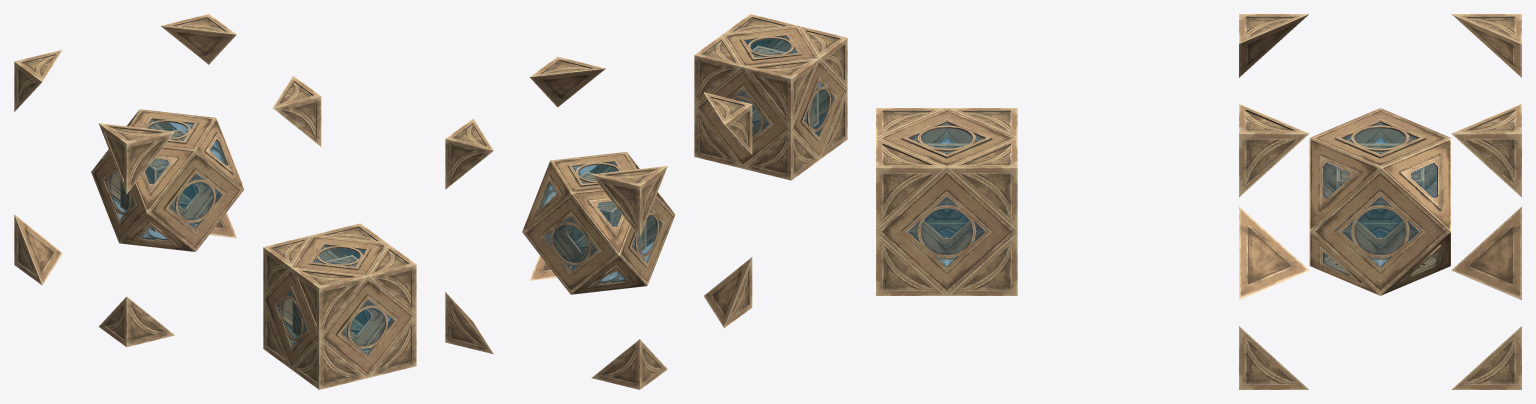
File: jedi_holocron.glb
3 renders of one model, left to right at view 1: azimuth 30°, elevation 25°; view 2: azimuth 150°, elevation 25°; view 3: azimuth 270°, elevation 25°, orthographic. The views are drawn at different scales.
Parts seen in each view (by area): view 1: holocron_opened_Material #25_0, holocron_Material #25_0; view 2: holocron_opened_Material #25_0, holocron_Material #25_0; view 3: holocron_opened_Material #25_0, holocron_Material #25_0.
Part boxes in pixels (x1,y1,x2,y2): holocron_opened_Material #25_0: [14, 14, 321, 347]; holocron_Material #25_0: [263, 223, 416, 389]; holocron_opened_Material #25_0: [445, 56, 752, 389]; holocron_Material #25_0: [694, 14, 847, 180]; holocron_opened_Material #25_0: [1239, 14, 1521, 389]; holocron_Material #25_0: [876, 108, 1017, 295].
Bounding box in the file's own units: 0.2 × 0.2 × 0.4565.
1 material, 1 textured.
